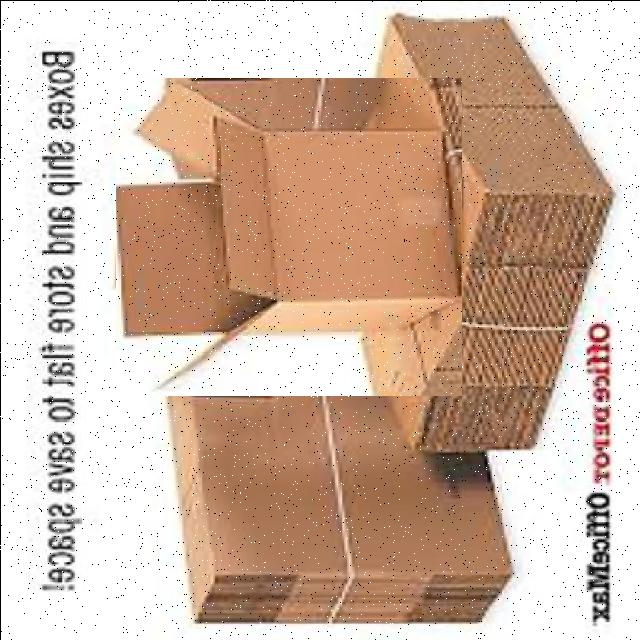defect: (116, 77, 462, 395)
